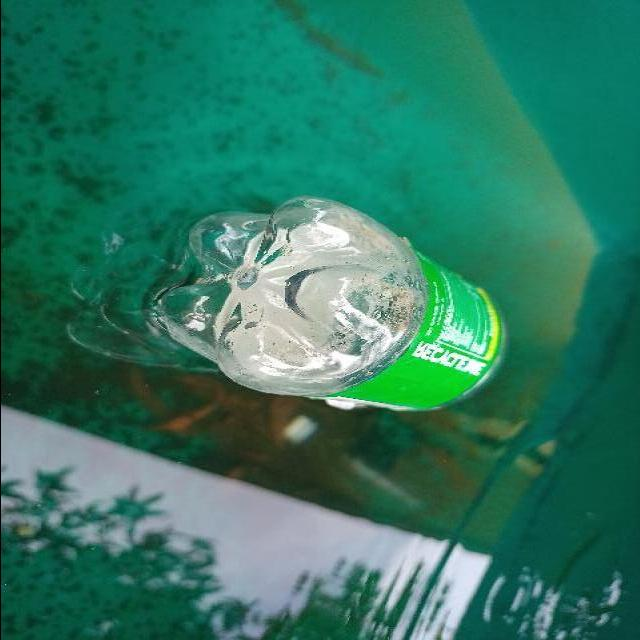Bottle: (150, 191, 509, 417)
